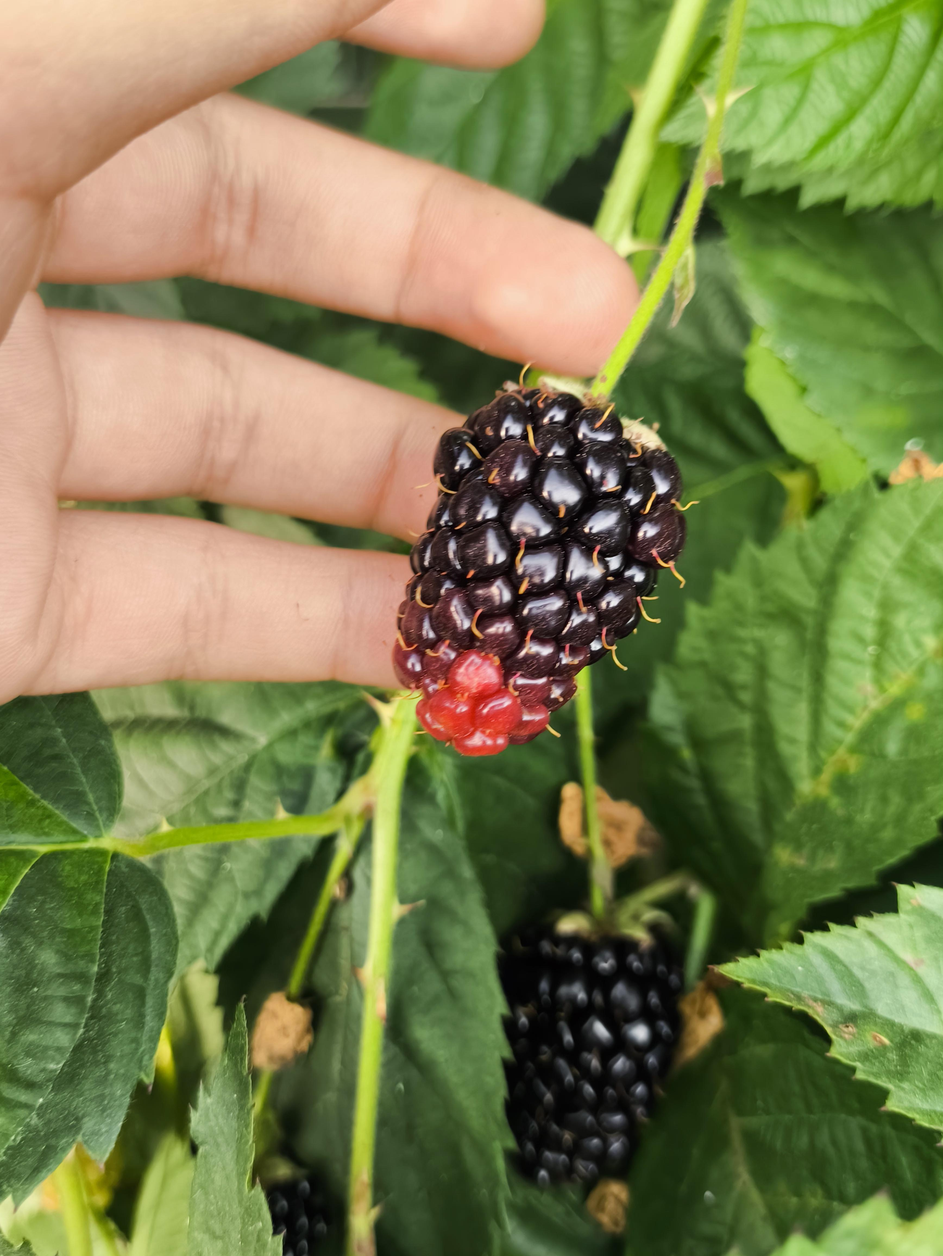maduro: (499, 921, 683, 1188)
marron: (398, 395, 689, 758)
